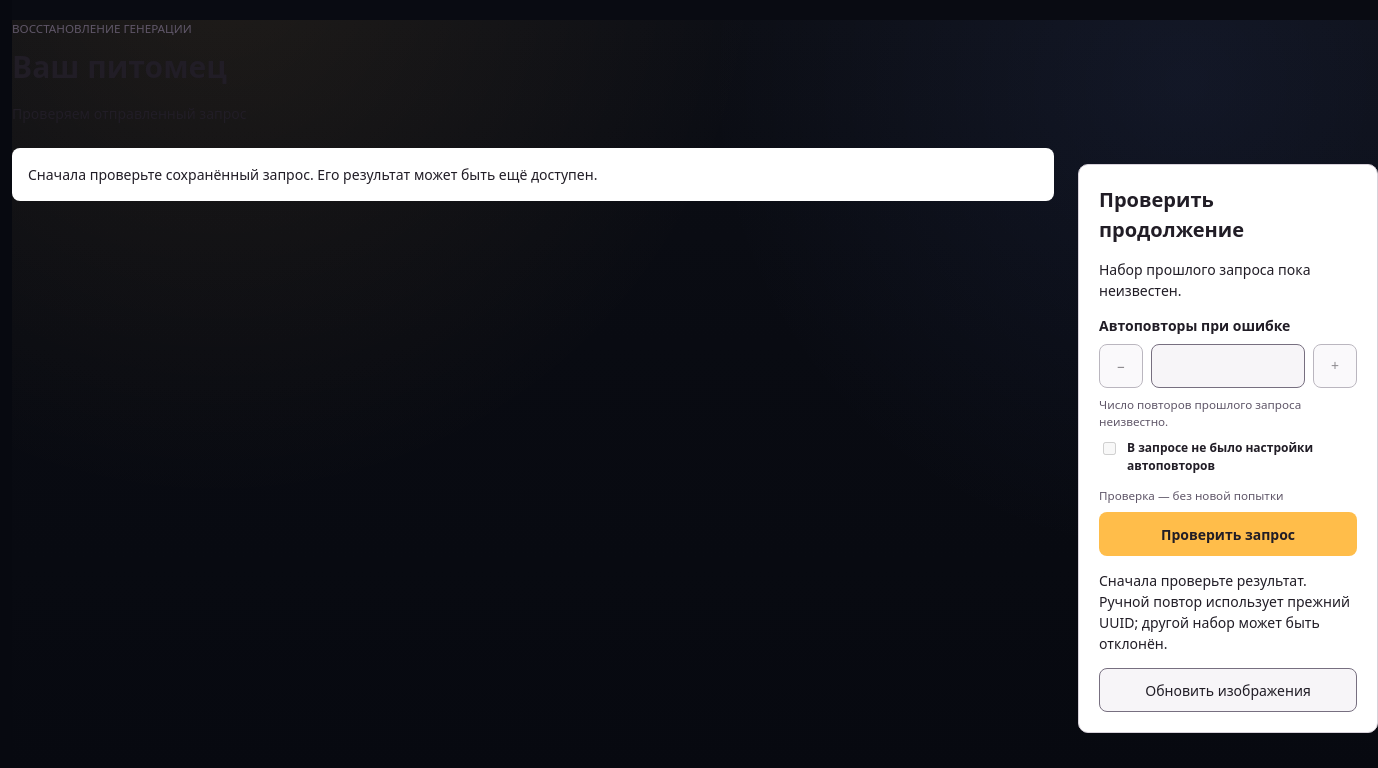
restores server preparation input even if storage is blocked: true
The image size is (1378, 768).
Click the button "Проверить запрос". click: coordinates (1228, 534)
box: [1099,512,1357,556]
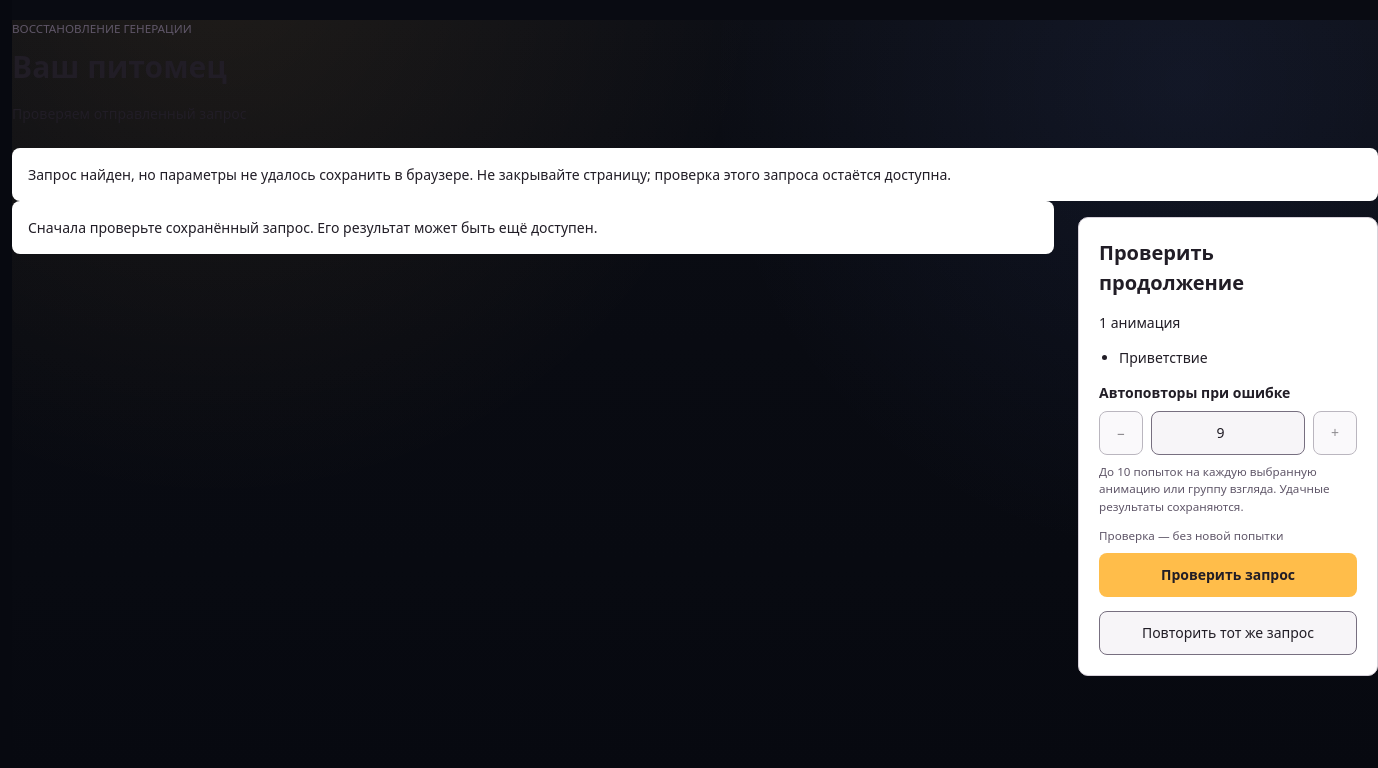
Expected: the number field named "Автоповторы при ошибке" is disabled, [1151,410,1305,454]
Expected: the number field named "Автоповторы при ошибке" holds "9", [1151,410,1305,454]
Expected: the text "Не закрывайте страницу" is shown, [28,164,951,184]
